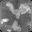people: (19, 3, 31, 14), (5, 2, 15, 13), (12, 20, 21, 32), (14, 9, 21, 19), (1, 18, 11, 24)
